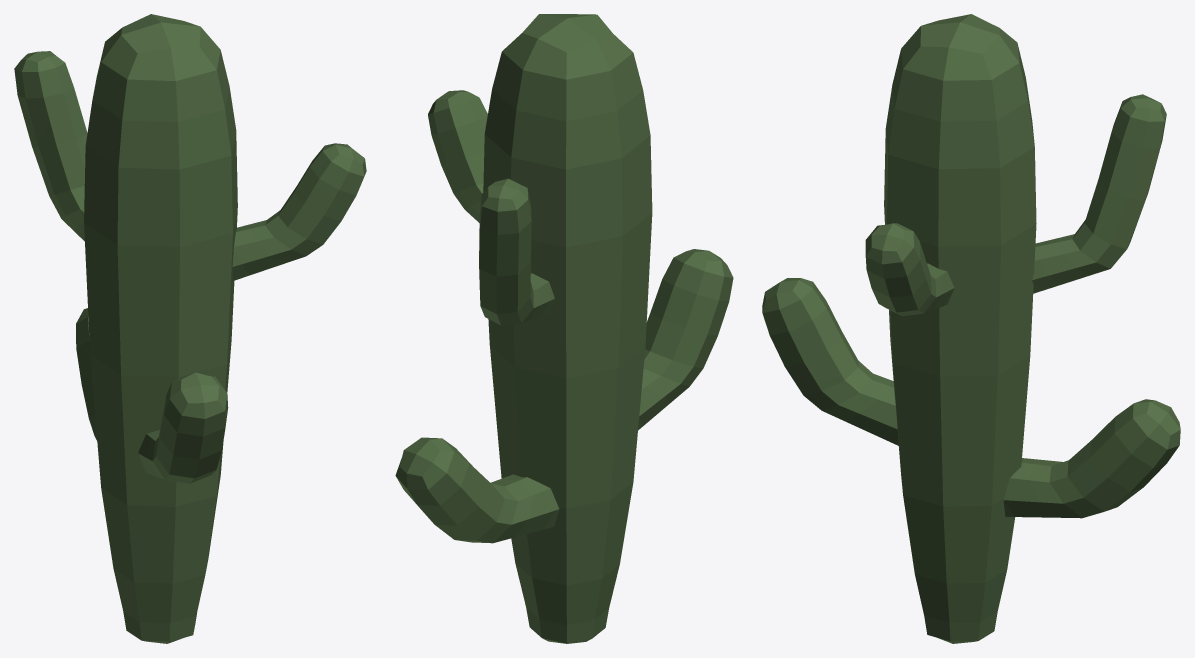
Rendered from cactus_2.glb.
3 views of the same model, side by side, from view 1: azimuth 30°, elevation 25°; view 2: azimuth 150°, elevation 25°; view 3: azimuth 270°, elevation 25° (orthographic).
Parts seen in each view (by area): view 1: cactus_2; view 2: cactus_2; view 3: cactus_2.
Part boxes in pixels (x1,y1,x2,y2): cactus_2: [14, 14, 366, 643]; cactus_2: [395, 14, 733, 643]; cactus_2: [762, 14, 1180, 643].
Size of the model in its own units: 0.7002 by 1.7 by 1.05.
Materials: 1 (1 with a texture image).
